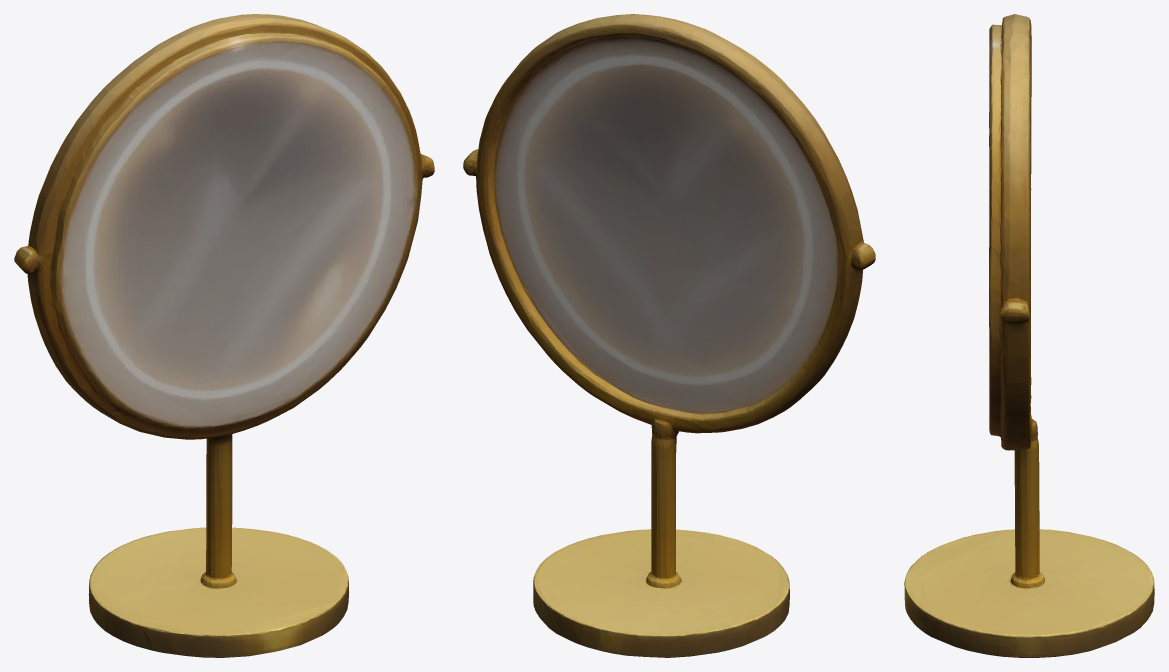
File: jacket_leather_black.glb
The picture shows the model from 3 angles, left to right: view 1: azimuth 30°, elevation 25°; view 2: azimuth 150°, elevation 25°; view 3: azimuth 270°, elevation 25°; orthographic projection. The views are drawn at different scales.
Parts seen in each view (by area): view 1: geometry_0; view 2: geometry_0; view 3: geometry_0.
Boxes of the visible parts, x1,y1,x2,y2 form: geometry_0: (14,14,434,657); geometry_0: (463,14,875,657); geometry_0: (904,14,1154,657).
Size of the model in its own units: 0.733 by 1 by 0.3979.
1 material, 1 textured.
